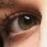eye: (19, 15, 36, 29)
